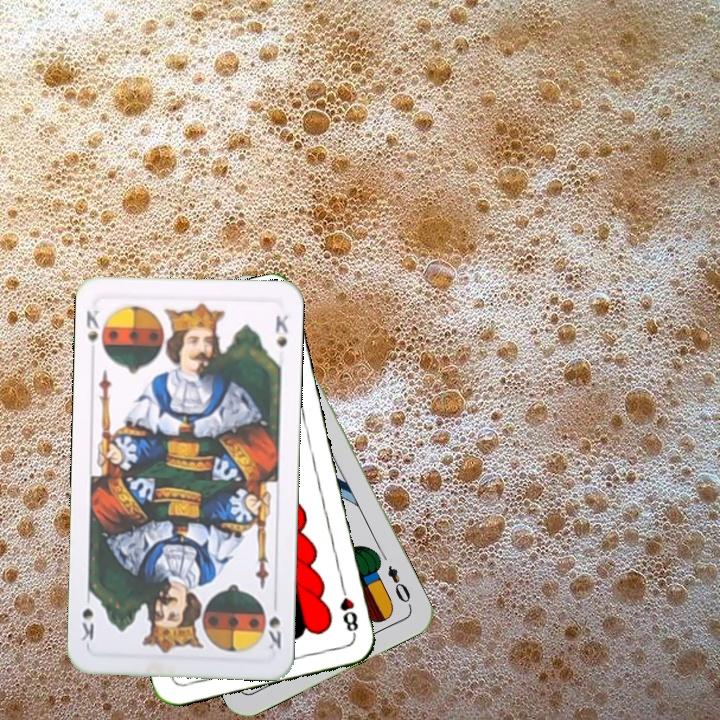EO: (383, 561, 415, 610)
H8: (336, 580, 361, 639)
SK: (264, 595, 284, 652), (82, 305, 103, 344)
